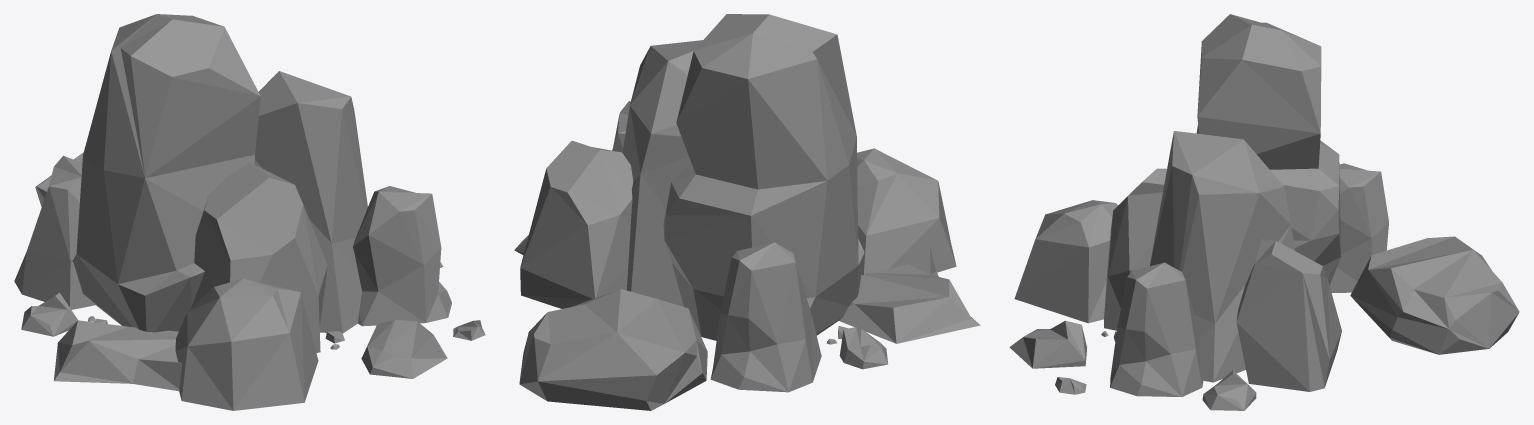
Rendered from Stone_B_03.FBX.
The picture shows the model from 3 angles, left to right: view 1: azimuth 30°, elevation 25°; view 2: azimuth 150°, elevation 25°; view 3: azimuth 270°, elevation 25°; orthographic projection. The views are drawn at different scales.
Parts seen in each view (by area): view 1: Stone_B_03; view 2: Stone_B_03; view 3: Stone_B_03.
Boxes of the visible parts, <box> form: Stone_B_03: <box>14,14,485,410</box>; Stone_B_03: <box>514,14,980,410</box>; Stone_B_03: <box>1009,14,1519,410</box>.
Bounding box in the file's own units: 11.01 × 7.45 × 12.65.
